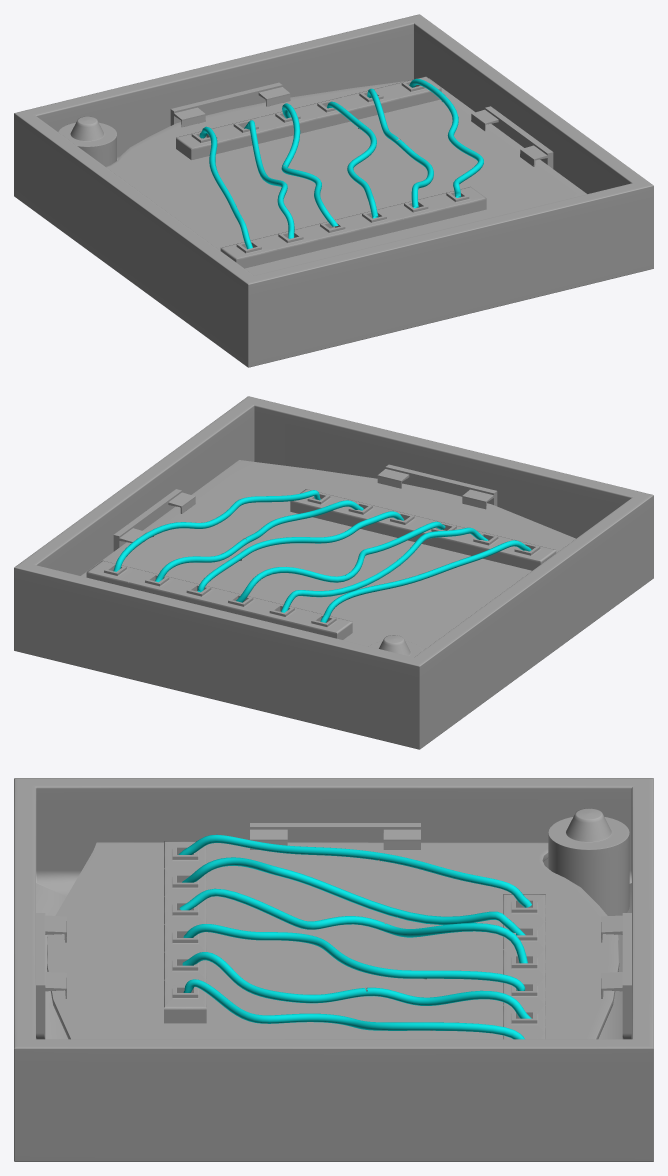
The model's file is cable_box.fbx.
3 renders of one model, top to bottom at view 1: azimuth 30°, elevation 25°; view 2: azimuth 150°, elevation 25°; view 3: azimuth 270°, elevation 25°, orthographic. The views are drawn at different scales.
Visible parts, largest first — view 1: metal_case, inlay_plate, cable_clamps, clamps, knob, Cable_05, Cable_02, Cable_03, Cable_04, Cable_01, Cable_00; view 2: metal_case, inlay_plate, cable_clamps, clamps, Cable_02, Cable_05, Cable_04, Cable_00, Cable_01, Cable_03, knob; view 3: metal_case, inlay_plate, cable_clamps, clamps, knob, Cable_02, Cable_04, Cable_01, Cable_05, Cable_03, Cable_00.
Boxes of the visible parts, x1=… form: metal_case: x1=14, y1=14, x2=653, y2=367; inlay_plate: x1=106, y1=78, x2=586, y2=275; cable_clamps: x1=176, y1=76, x2=486, y2=268; clamps: x1=170, y1=82, x2=553, y2=168; knob: x1=58, y1=116, x2=116, y2=166; Cable_05: x1=409, y1=78, x2=483, y2=197; Cable_02: x1=281, y1=103, x2=338, y2=226; Cable_03: x1=327, y1=101, x2=378, y2=218; Cable_04: x1=367, y1=88, x2=433, y2=208; Cable_01: x1=244, y1=120, x2=294, y2=238; Cable_00: x1=199, y1=126, x2=252, y2=249; metal_case: x1=14, y1=396, x2=653, y2=749; inlay_plate: x1=81, y1=460, x2=575, y2=650; cable_clamps: x1=86, y1=489, x2=556, y2=639; clamps: x1=113, y1=464, x2=497, y2=551; Cable_02: x1=236, y1=521, x2=445, y2=602; Cable_05: x1=113, y1=490, x2=320, y2=571; Cable_04: x1=155, y1=500, x2=363, y2=582; Cable_00: x1=320, y1=540, x2=531, y2=622; Cable_01: x1=281, y1=527, x2=488, y2=612; Cable_03: x1=197, y1=511, x2=403, y2=592; knob: x1=369, y1=635, x2=422, y2=657; metal_case: x1=14, y1=778, x2=653, y2=1161; inlay_plate: x1=47, y1=842, x2=619, y2=1039; cable_clamps: x1=164, y1=841, x2=545, y2=1039; clamps: x1=36, y1=823, x2=631, y2=1039; knob: x1=548, y1=808, x2=629, y2=915; Cable_02: x1=179, y1=888, x2=527, y2=963; Cable_04: x1=182, y1=952, x2=531, y2=1018; Cable_01: x1=182, y1=857, x2=525, y2=935; Cable_05: x1=183, y1=979, x2=524, y2=1039; Cable_03: x1=183, y1=924, x2=525, y2=990; Cable_00: x1=178, y1=834, x2=531, y2=907.
Bounding box in the file's own units: 15 × 2.95 × 15.
